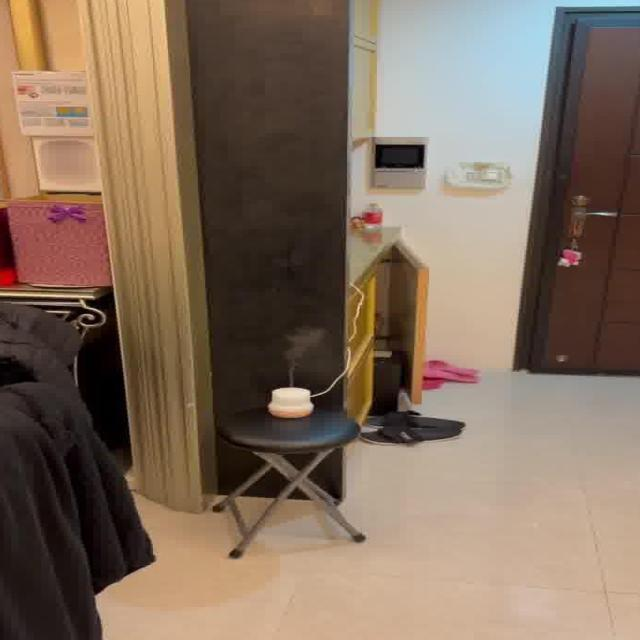fire: (278, 325, 328, 380)
